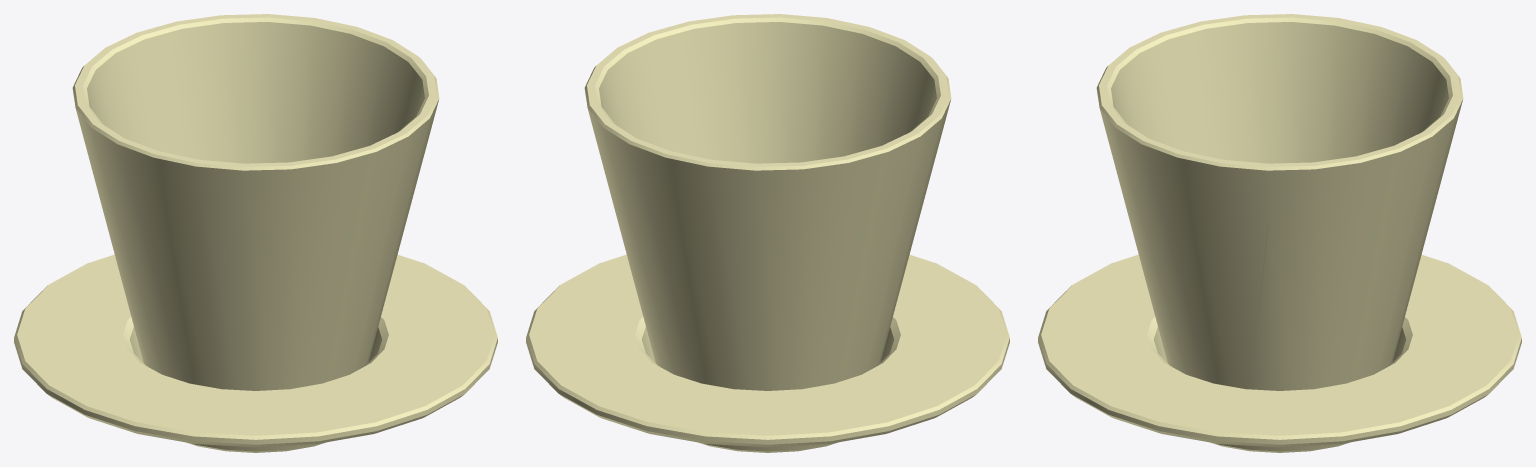
Rendered from Teacup_Dinera.fbx.
The picture shows the model from 3 angles, left to right: view 1: azimuth 30°, elevation 25°; view 2: azimuth 150°, elevation 25°; view 3: azimuth 270°, elevation 25°; orthographic projection.
Parts seen in each view (by area): view 1: Component_3_1, Component_1_1; view 2: Component_3_1, Component_1_1; view 3: Component_3_1, Component_1_1.
Boxes of the visible parts, x1,y1,x2,y2 form: Component_3_1: (72,14,439,390); Component_1_1: (14,254,497,452); Component_3_1: (584,14,951,390); Component_1_1: (526,254,1009,452); Component_3_1: (1096,14,1463,390); Component_1_1: (1038,254,1521,452).
Size of the model in its own units: 140 by 100 by 140.
